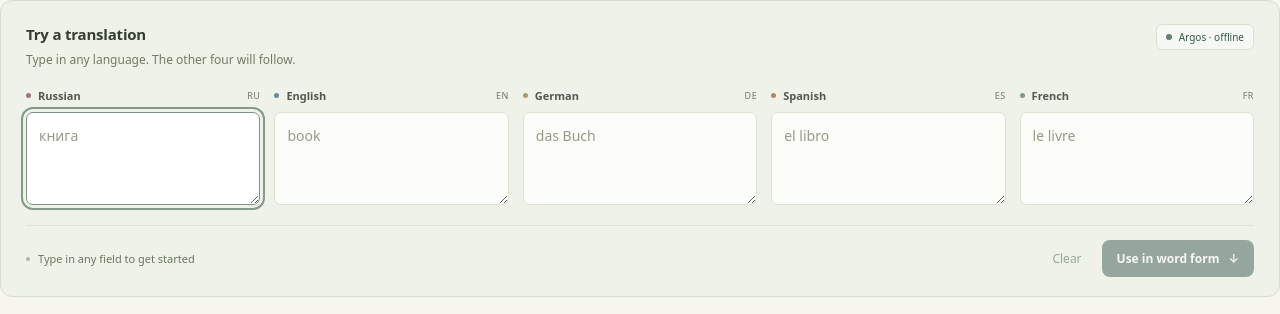
Scenario: live translation requests › clears pending work and prevents its result from restoring cleared fields
Type "bonjour" into the text box named "Translate French FR" at x=1137, y=159, box [1020, 112, 1254, 205]
Wait 500 ms
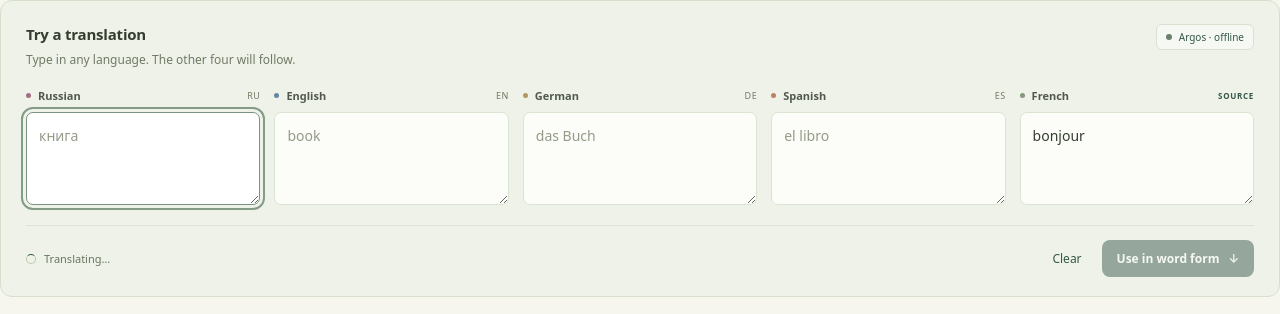
Click the button "Clear" at x=1067, y=259, box [1044, 242, 1090, 275]
Wait 1000 ms
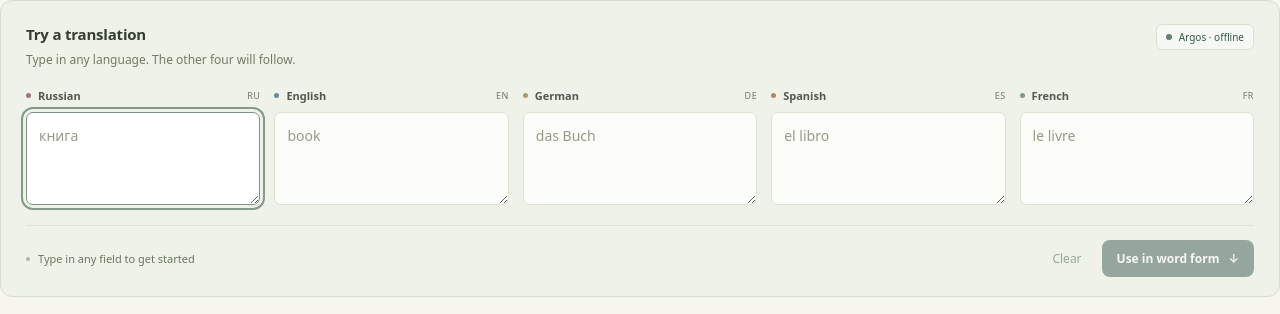
Expected: the text box named "Translate Russian RU" is empty, [26, 112, 260, 205]
Result: the text box named "Translate French FR" is empty at [1020, 112, 1254, 205]
Result: the text "Type in any field to get started" is shown at [26, 251, 195, 266]
